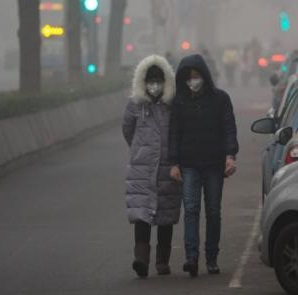person: (169, 52, 243, 279), (120, 52, 183, 279), (221, 45, 240, 89), (201, 47, 220, 84), (247, 37, 264, 72), (241, 46, 253, 86)
